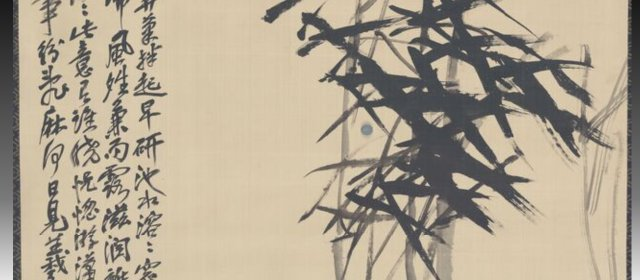bamboo: (262, 1, 599, 280)
